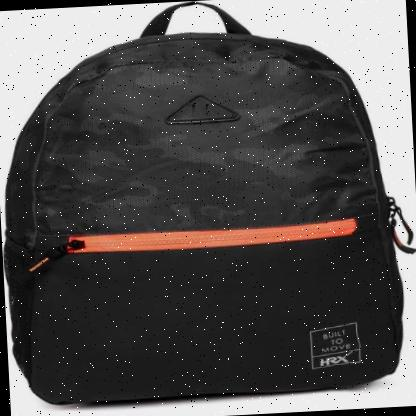bag: (0, 0, 410, 409)
